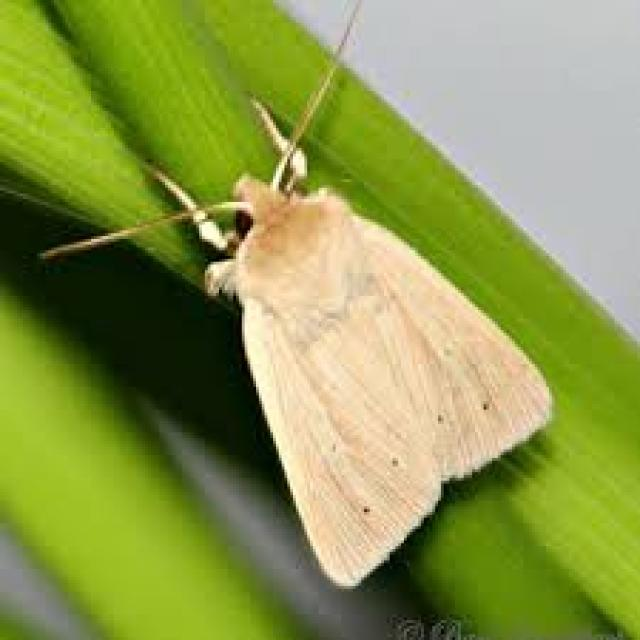yellow-stem-borer: (80, 60, 564, 622)
